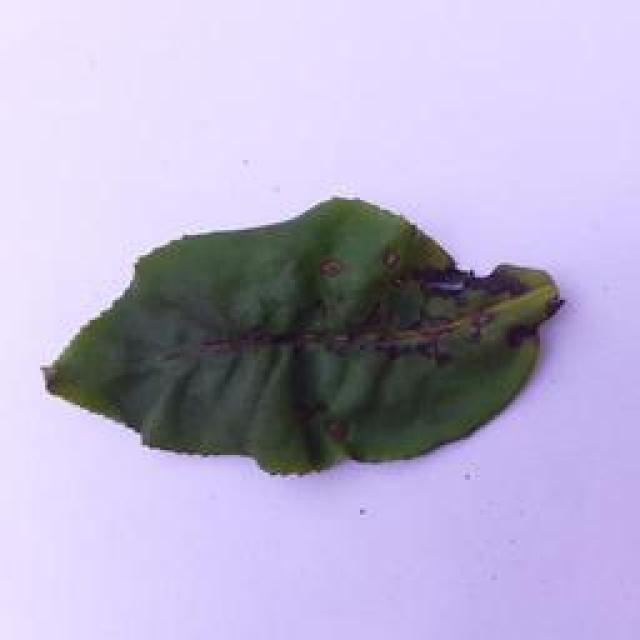Helopeltis: (33, 197, 584, 473)
